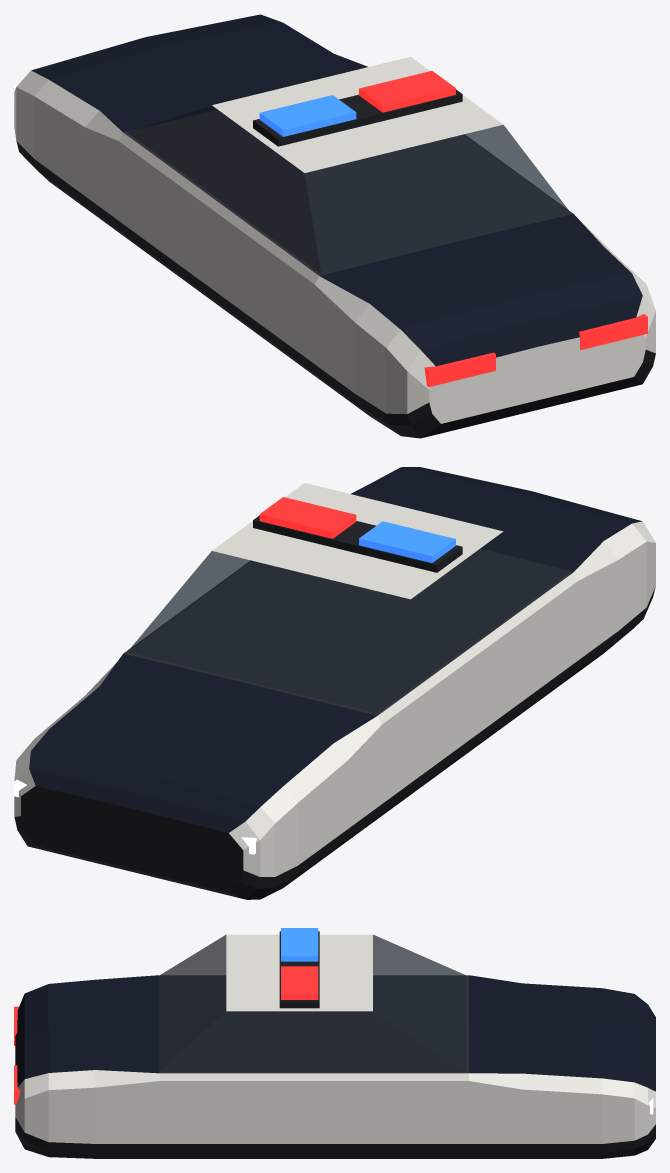
File: police_cruiser_lod.glb
3 views of the same model, one above another, from view 1: azimuth 30°, elevation 25°; view 2: azimuth 150°, elevation 25°; view 3: azimuth 270°, elevation 25° (orthographic). The views are drawn at different scales.
Parts seen in each view (by area): view 1: Body; view 2: Body; view 3: Body.
Part boxes in pixels (x1,y1,x2,y2): Body: [14, 14, 655, 438]; Body: [14, 467, 655, 899]; Body: [14, 928, 655, 1158].
Size of the model in its own units: 1.8 by 1.26 by 4.81.
